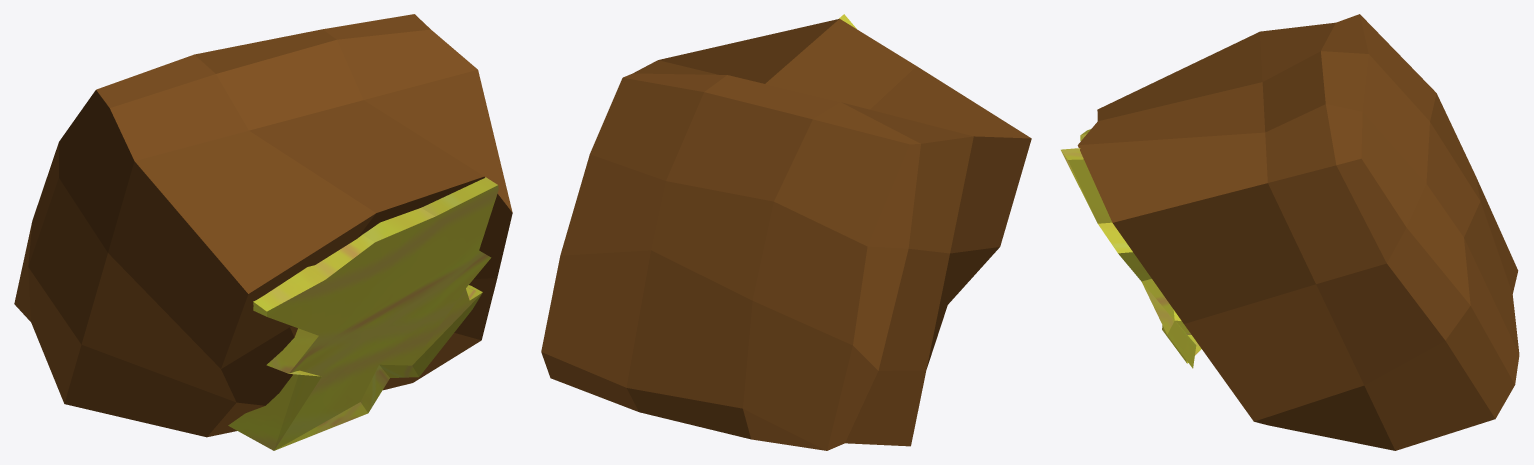
The model's file is SulphurRockDepleted.glb.
3 views of the same model, side by side, from view 1: azimuth 30°, elevation 25°; view 2: azimuth 150°, elevation 25°; view 3: azimuth 270°, elevation 25° (orthographic). The views are drawn at different scales.
Visible parts, largest first — view 1: Cube; view 2: Cube; view 3: Cube.
Part boxes in pixels (<box>): Cube: <box>14,14,512,450</box>; Cube: <box>541,14,1031,450</box>; Cube: <box>1061,14,1519,450</box>.
Size of the model in its own units: 2.09 by 1.83 by 2.51.
2 materials, 1 textured.
